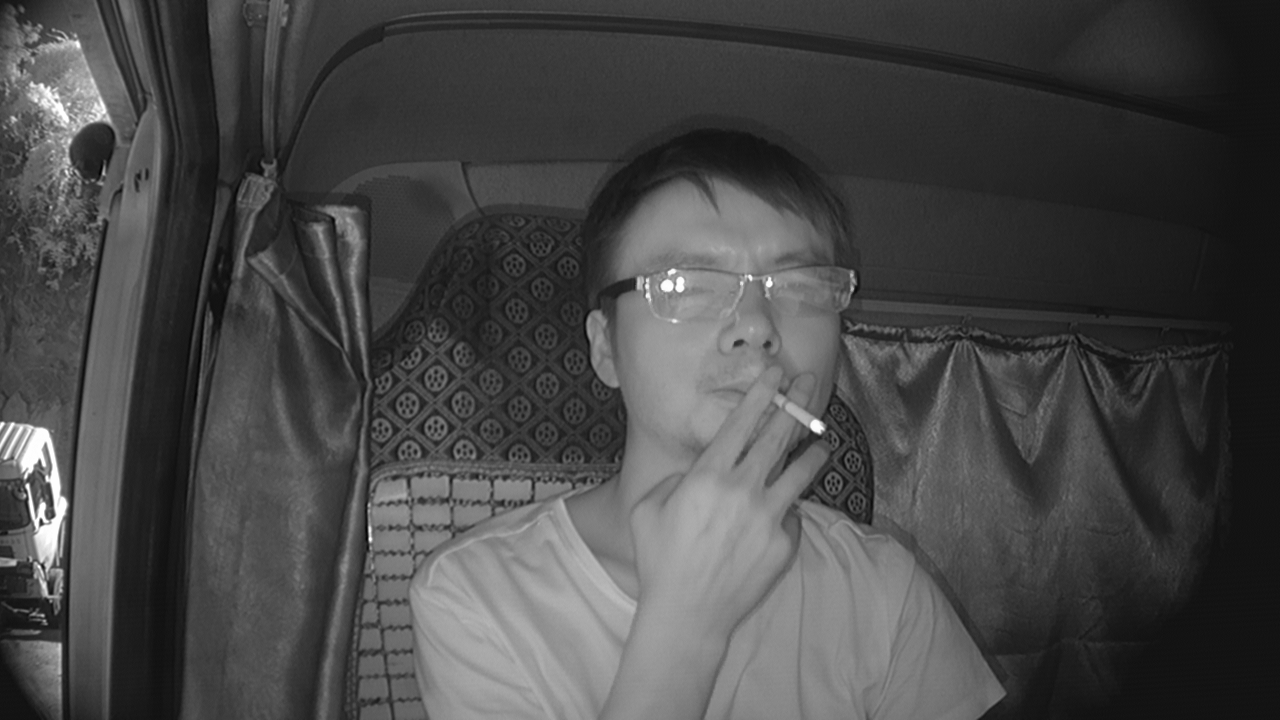hand: (661, 373, 834, 562)
